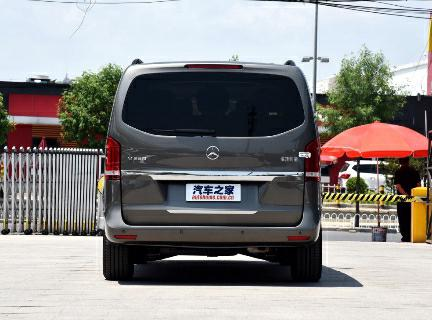奔驰-V级: (86, 52, 330, 287)
